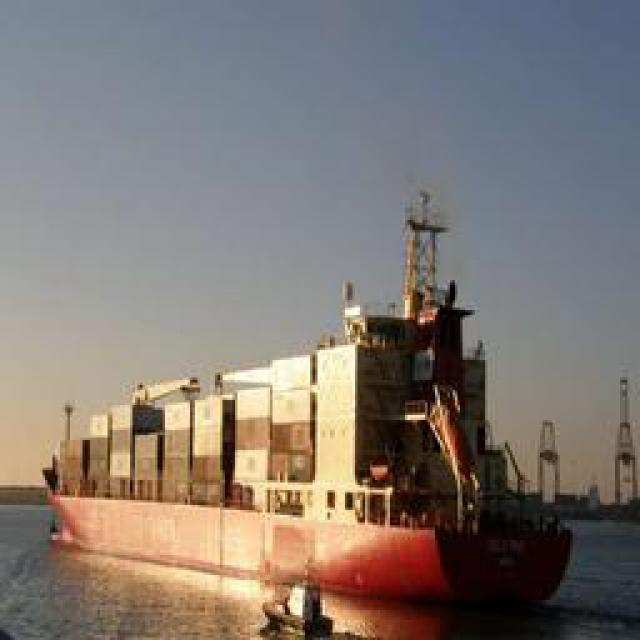Ship: (30, 187, 588, 617)
